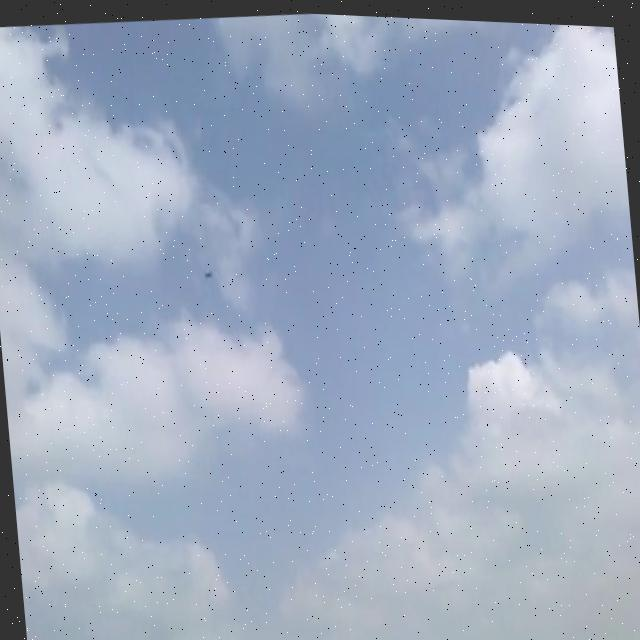drone: (199, 261, 215, 279)
